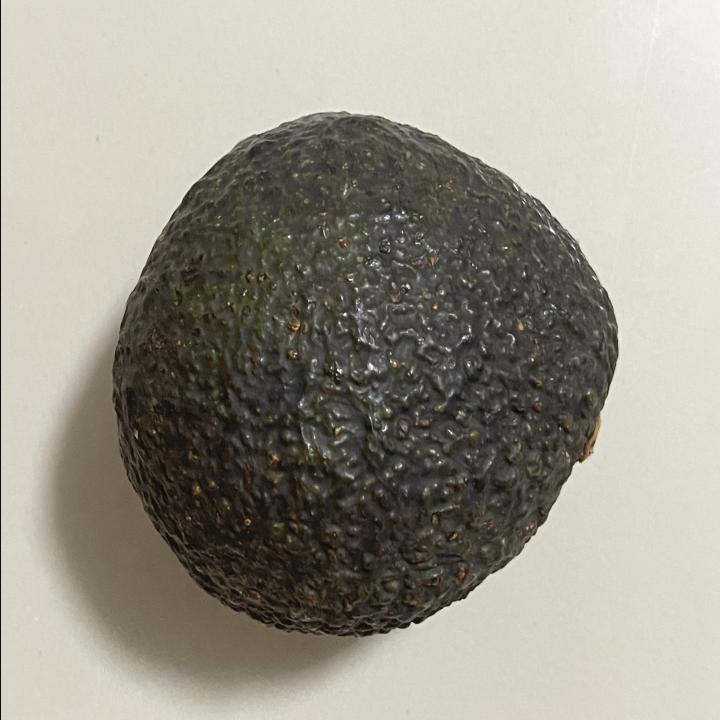Level1: (100, 98, 627, 656)
